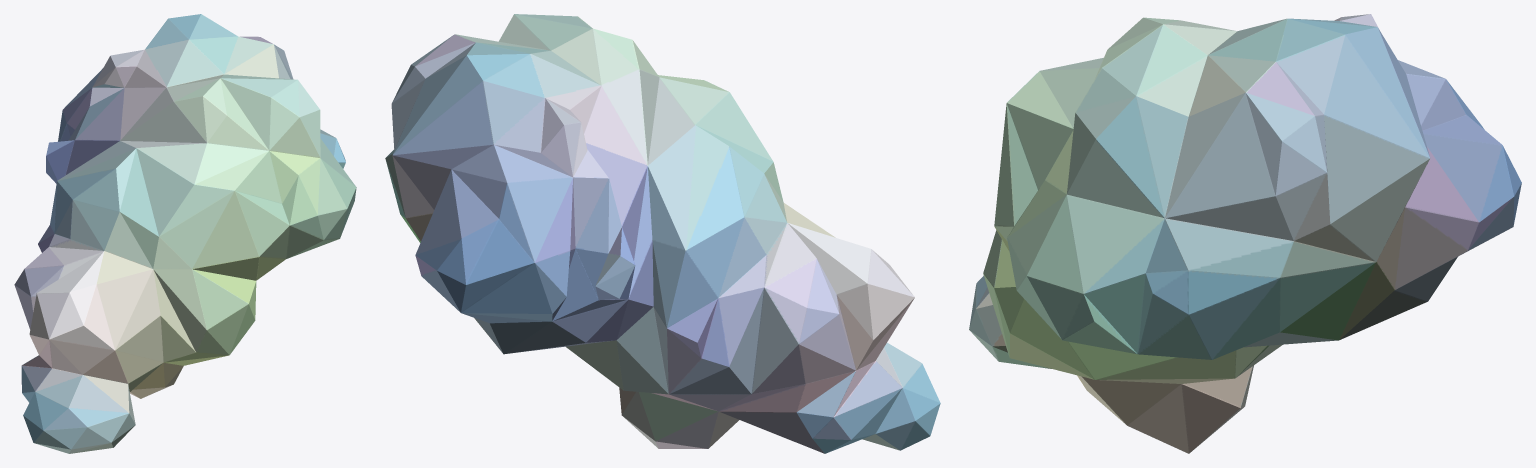
Rendered from steam.fbx.
3 renders of one model, left to right at view 1: azimuth 30°, elevation 25°; view 2: azimuth 150°, elevation 25°; view 3: azimuth 270°, elevation 25°, orthographic. The views are drawn at different scales.
Parts seen in each view (by area): view 1: Mesh_0; view 2: Mesh_0; view 3: Mesh_0.
Boxes of the visible parts, x1=… form: Mesh_0: x1=14, y1=14, x2=356, y2=453; Mesh_0: x1=385, y1=14, x2=940, y2=453; Mesh_0: x1=969, y1=14, x2=1521, y2=453.
Size of the model in its own units: 138 by 117 by 118.
1 material, 1 textured.
